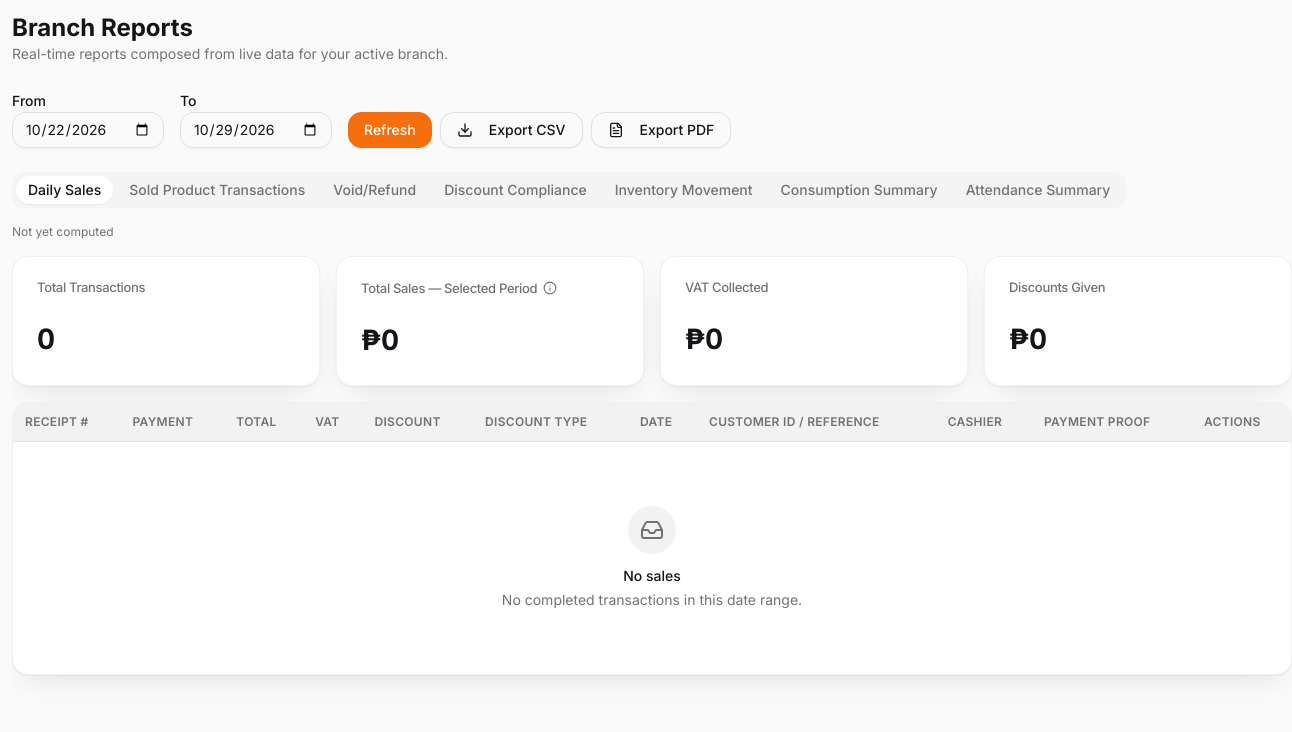
SupervisorReportsPage › shows both voided and refunded transactions on the Void/Refund tab
Press the mouse on the tab "Void/Refund" at coordinates (375, 190), box [321,176,428,204]
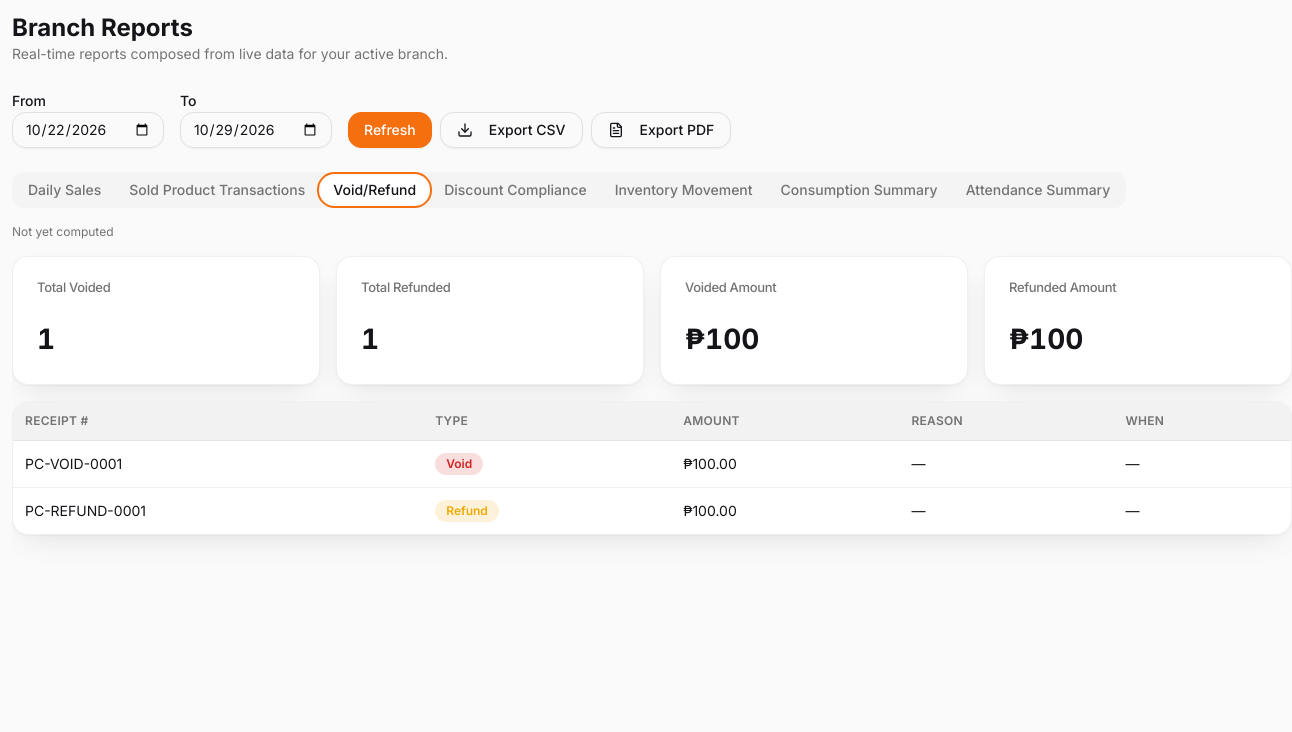
Result: the text "PC-VOID-0001" is shown at [13,440,423,487]
Result: the text "PC-REFUND-0001" is shown at [13,487,423,534]
